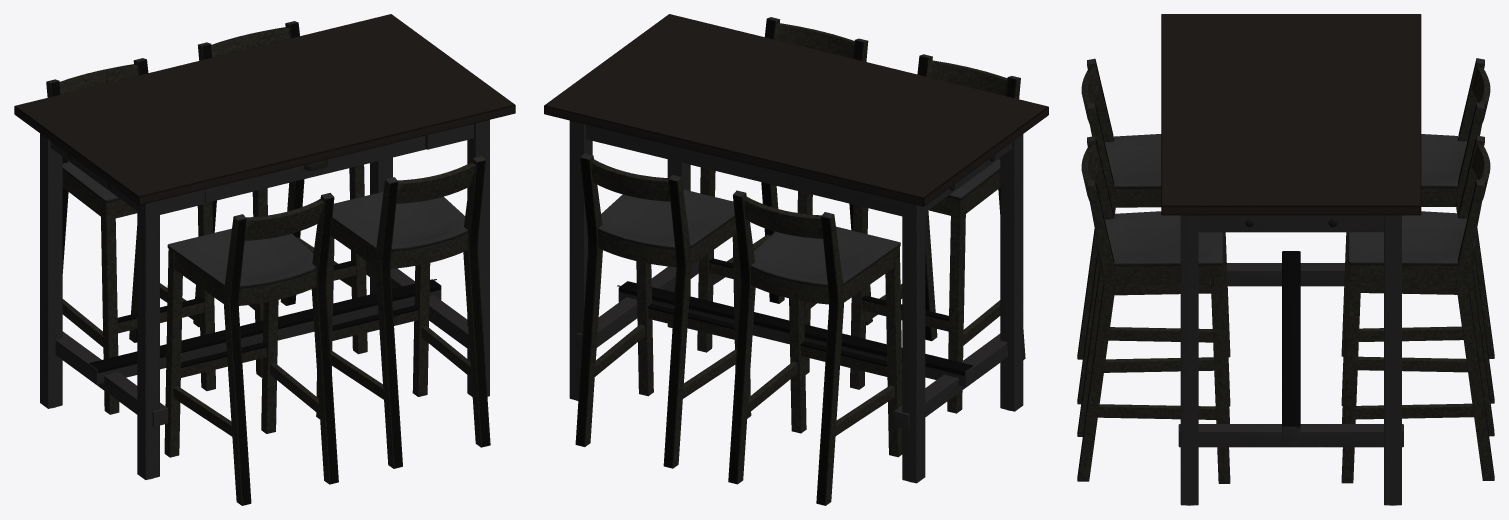
File: 19 - NORDVIKEN NORDVIKEN Bar table and 4 bar stools - blackblack.glb
3 renders of one model, left to right at view 1: azimuth 30°, elevation 25°; view 2: azimuth 150°, elevation 25°; view 3: azimuth 270°, elevation 25°, orthographic. The views are drawn at different scales.
Bounding box in the file's own units: 1.4 × 1.05 × 1.28.
Materials: 1 (1 with a texture image).
